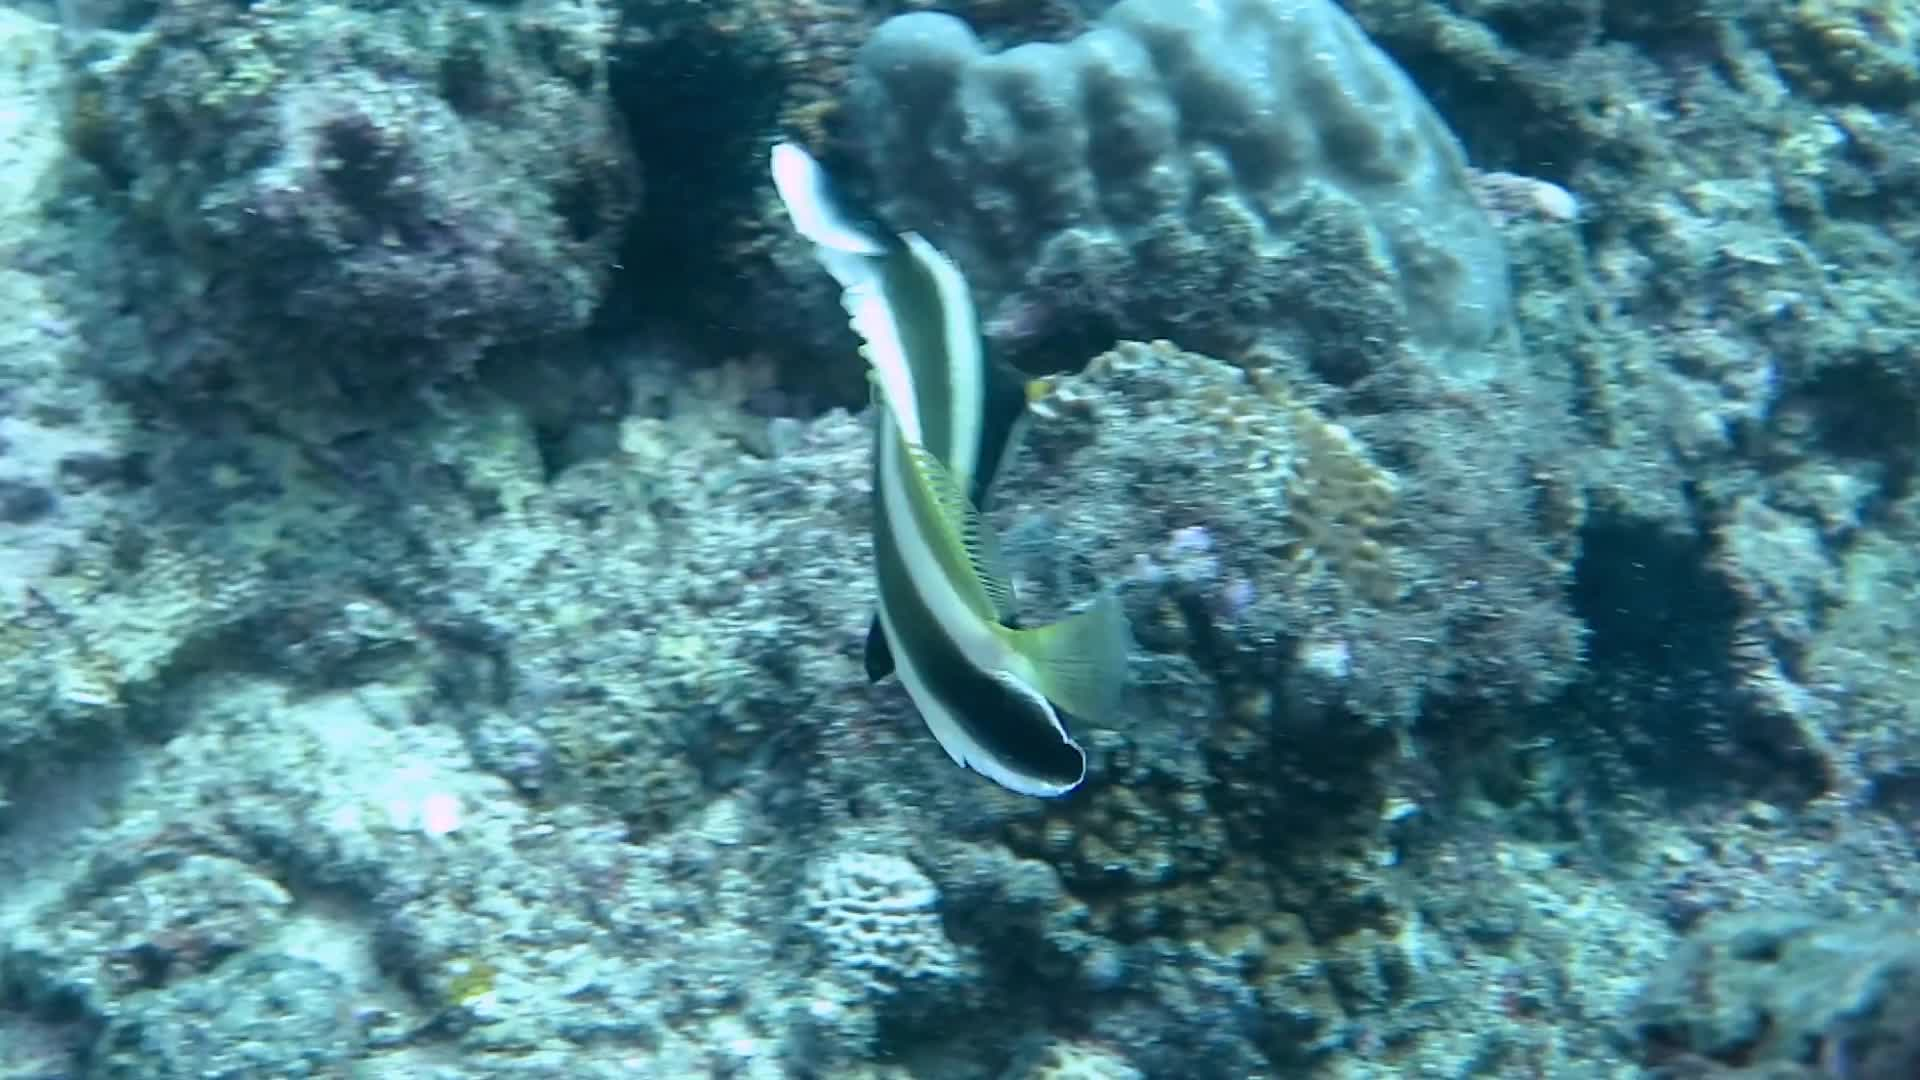Heniochus chrysostomus: (603, 115, 1283, 844)
